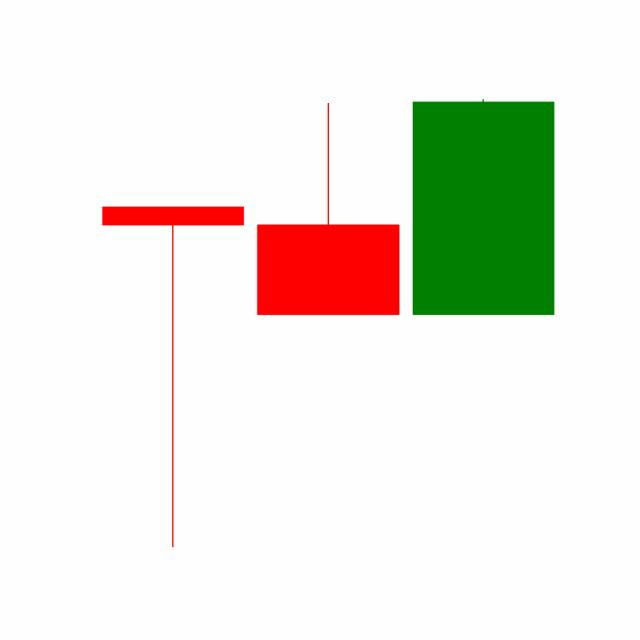Marubozu: (405, 96, 561, 316)
